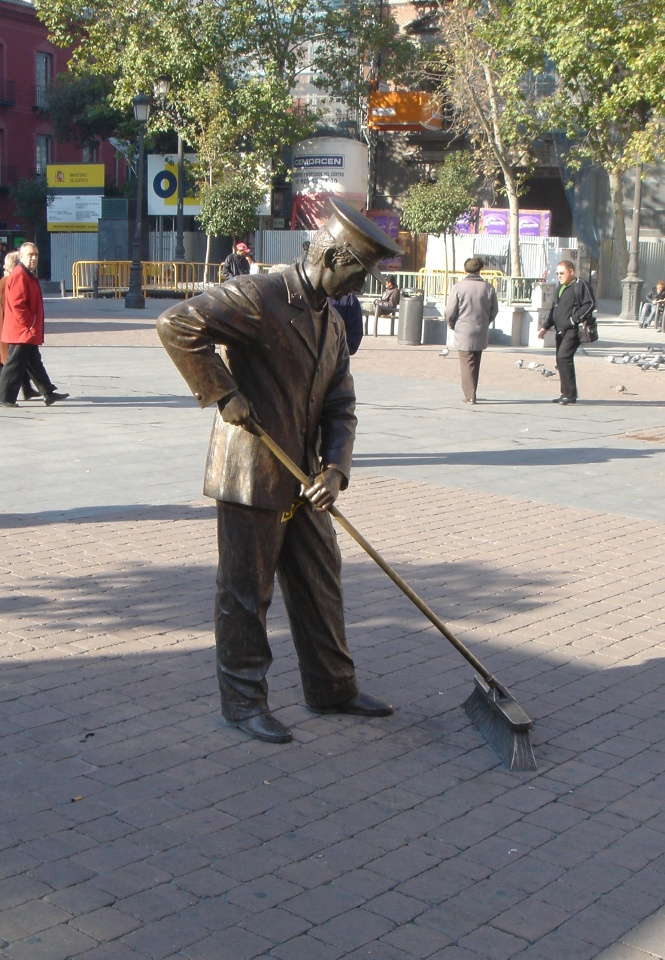person: (169, 190, 410, 748)
